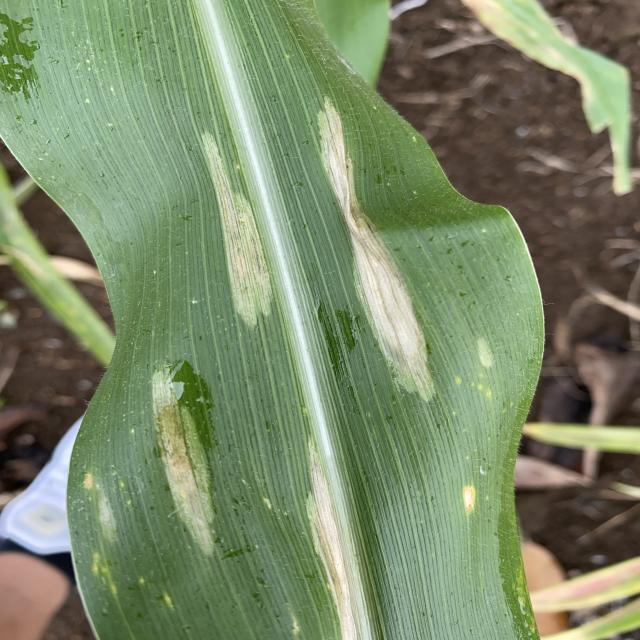Corn_Leaf_Blight: (59, 5, 537, 640)
